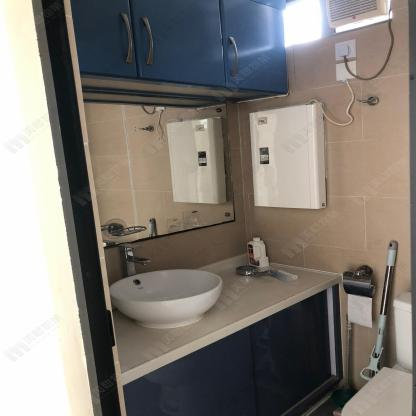Exhaust Fan: (325, 0, 387, 30)
Toilet: (341, 290, 412, 416)
Toilet Sink: (108, 270, 222, 330)
Water Heater: (249, 100, 327, 209)
